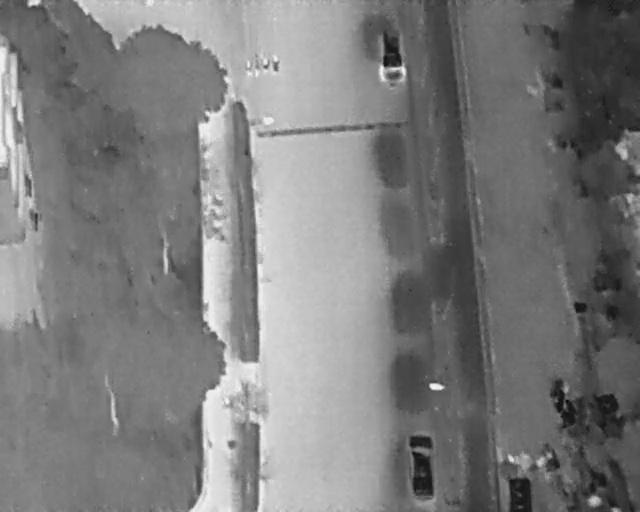Car: (407, 430, 435, 502), (379, 32, 408, 86)
Person: (272, 55, 280, 73), (245, 60, 253, 77), (254, 60, 261, 77), (262, 58, 270, 72)
